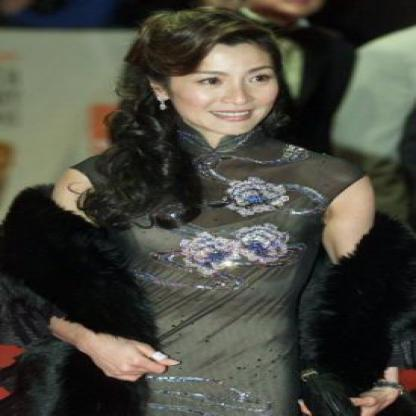face: (168, 34, 282, 138)
